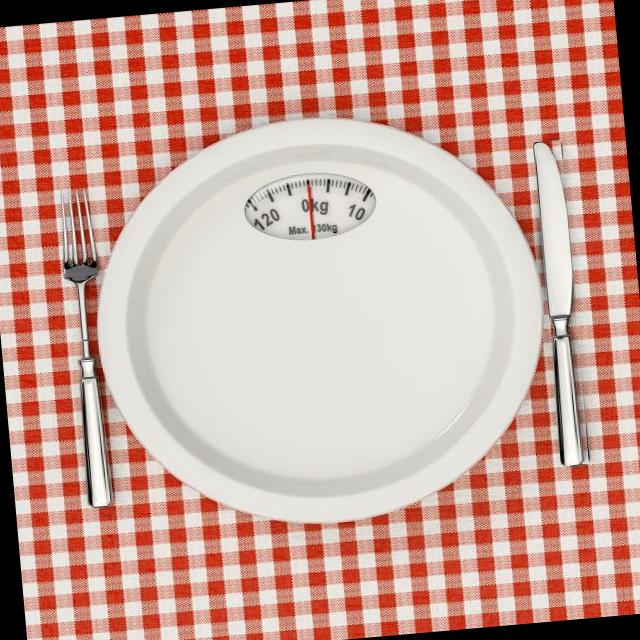Knife: (533, 141, 583, 465)
